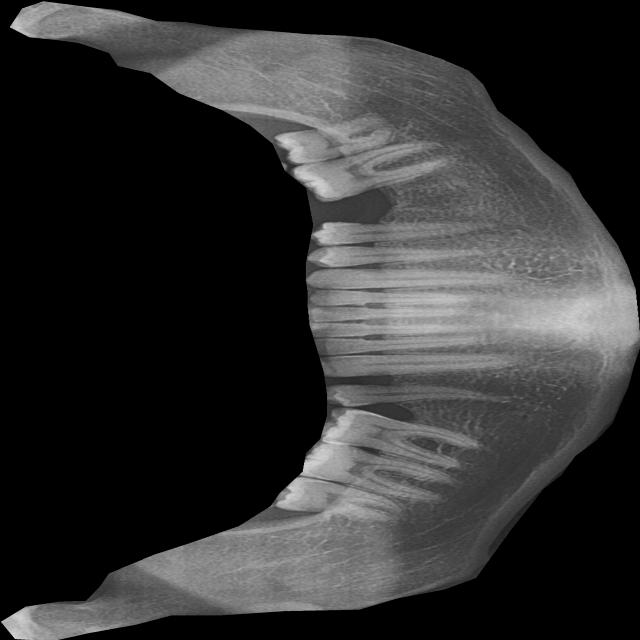mandibula: (1, 0, 640, 640)
